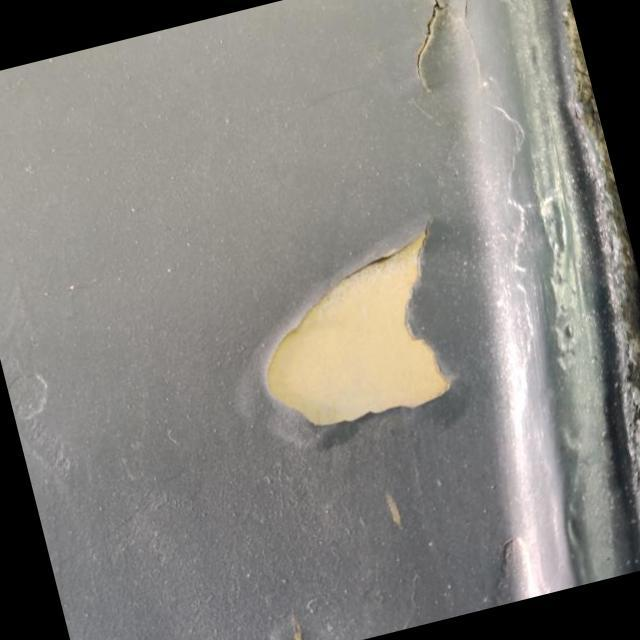Rupture: (374, 0, 489, 106)
